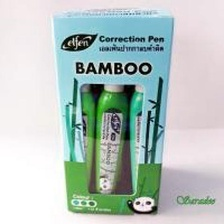book: (44, 4, 177, 219)
correction_fluid: (91, 31, 132, 210), (125, 32, 164, 210), (60, 33, 99, 210)
